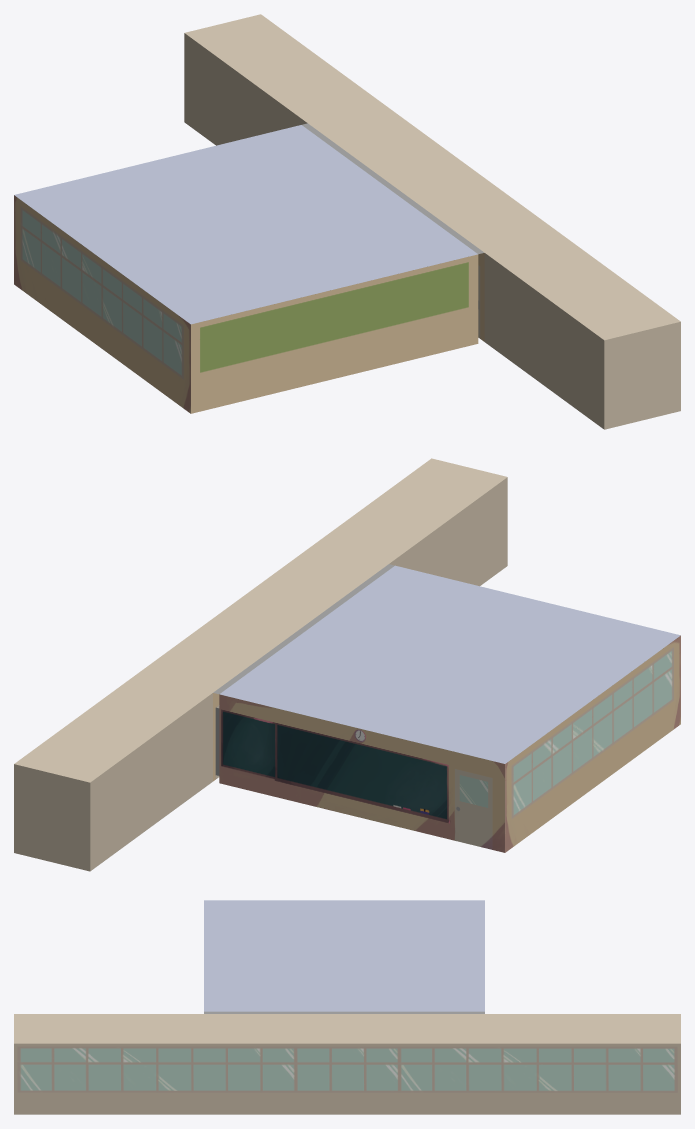
Rendered from zukoushitsu06.fbx.
3 views of the same model, one above another, from view 1: azimuth 30°, elevation 25°; view 2: azimuth 150°, elevation 25°; view 3: azimuth 270°, elevation 25° (orthographic). The views are drawn at different scales.
Visible parts, largest first — view 1: pCube2, tenjou, polySurface2; view 2: pCube2, tenjou, polySurface2; view 3: pCube2, tenjou, polySurface2.
Boxes of the visible parts, x1,y1,x2,y2 form: pCube2: (184, 14, 680, 429); tenjou: (14, 125, 477, 324); polySurface2: (14, 123, 484, 413); pCube2: (14, 458, 507, 871); tenjou: (220, 565, 680, 763); polySurface2: (213, 564, 680, 852); pCube2: (14, 1014, 680, 1114); tenjou: (204, 900, 484, 1011); polySurface2: (204, 1011, 484, 1013).
Bounding box in the file's own units: 29.49 × 6.8 × 57.9.
